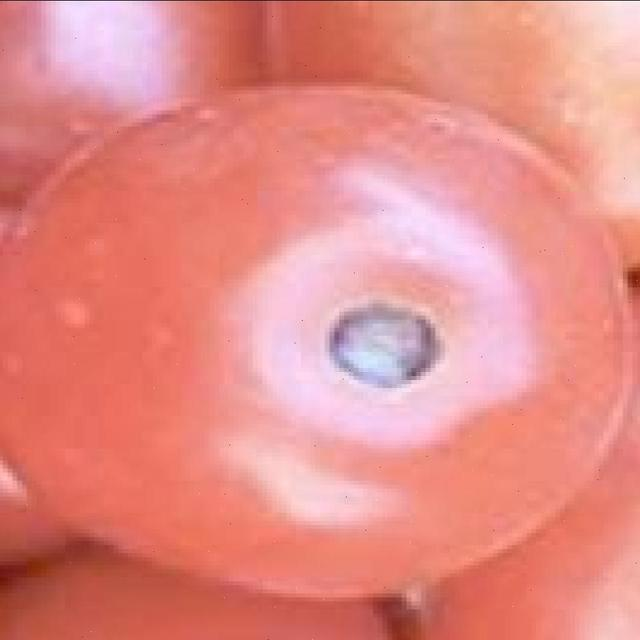Blossom End Rot Fruit: (220, 201, 303, 265)
